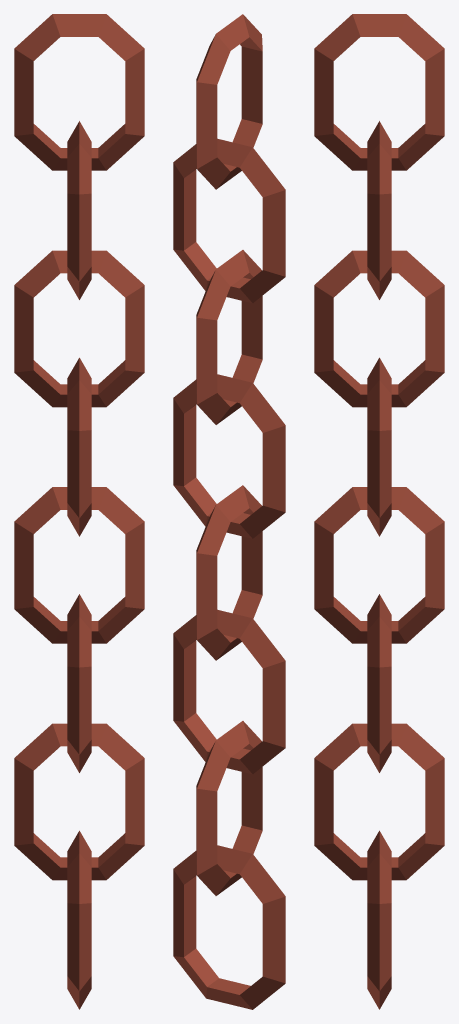
File: Chain_3_Red.fbx
3 views of the same model, side by side, from view 1: azimuth 90°, elevation 25°; view 2: azimuth 150°, elevation 25°; view 3: azimuth 270°, elevation 25° (orthographic).
Visible parts, largest first — view 1: Chain_3_Red; view 2: Chain_3_Red; view 3: Chain_3_Red.
Boxes of the visible parts, x1,y1,x2,y2 form: Chain_3_Red: [14, 14, 144, 1009]; Chain_3_Red: [173, 14, 285, 1009]; Chain_3_Red: [314, 14, 444, 1009].
Bounding box in the file's own units: 15.01 × 125 × 15.01.
